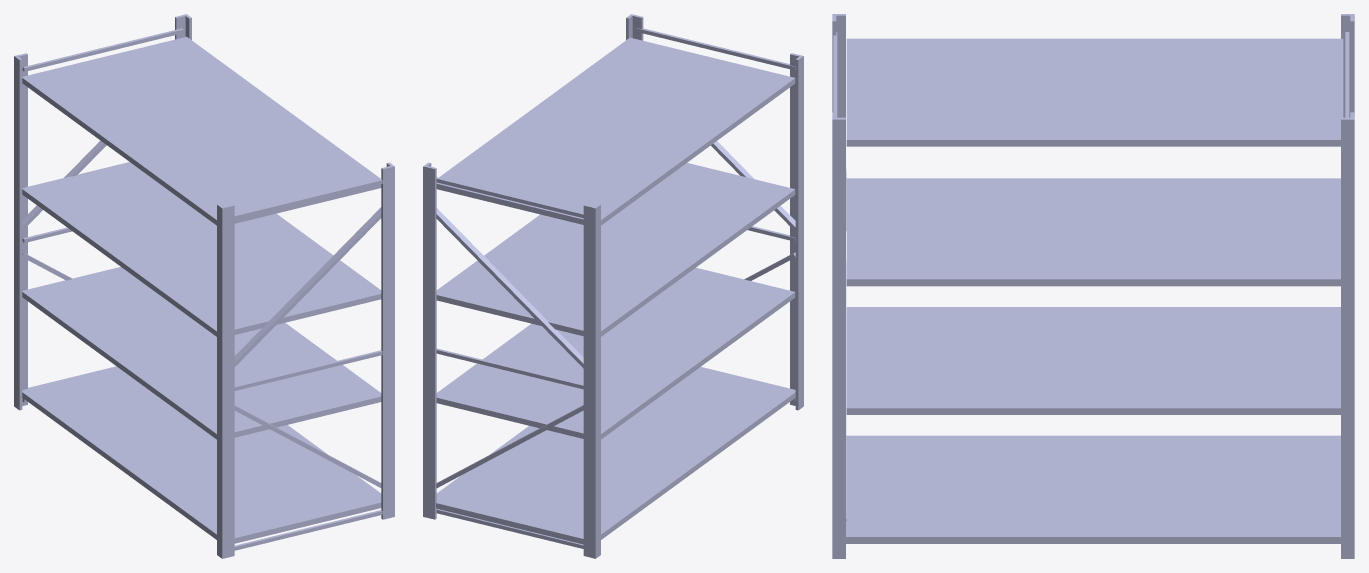
File: shelve.fbx
The picture shows the model from 3 angles, left to right: view 1: azimuth 30°, elevation 25°; view 2: azimuth 150°, elevation 25°; view 3: azimuth 270°, elevation 25°; orthographic projection. The views are drawn at different scales.
Visible parts, largest first — view 1: shelve.001, shelf vars.001; view 2: shelve.001, shelf vars.001; view 3: shelve.001, shelf vars.001.
Boxes of the visible parts, left/top/right/bottom form: shelve.001: left=22, top=36, right=381, bottom=543; shelf vars.001: left=14, top=14, right=394, bottom=558; shelve.001: left=436, top=37, right=795, bottom=544; shelf vars.001: left=423, top=14, right=803, bottom=558; shelve.001: left=846, top=38, right=1343, bottom=543; shelf vars.001: left=832, top=14, right=1354, bottom=558.
Bounding box in the file's own units: 212 × 412 × 444.
